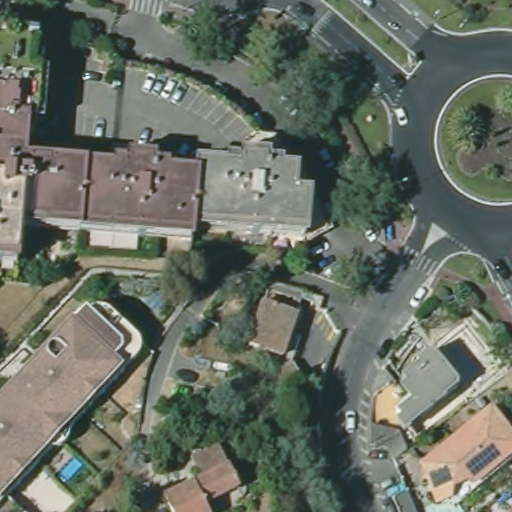pool: (54, 455, 81, 481)
